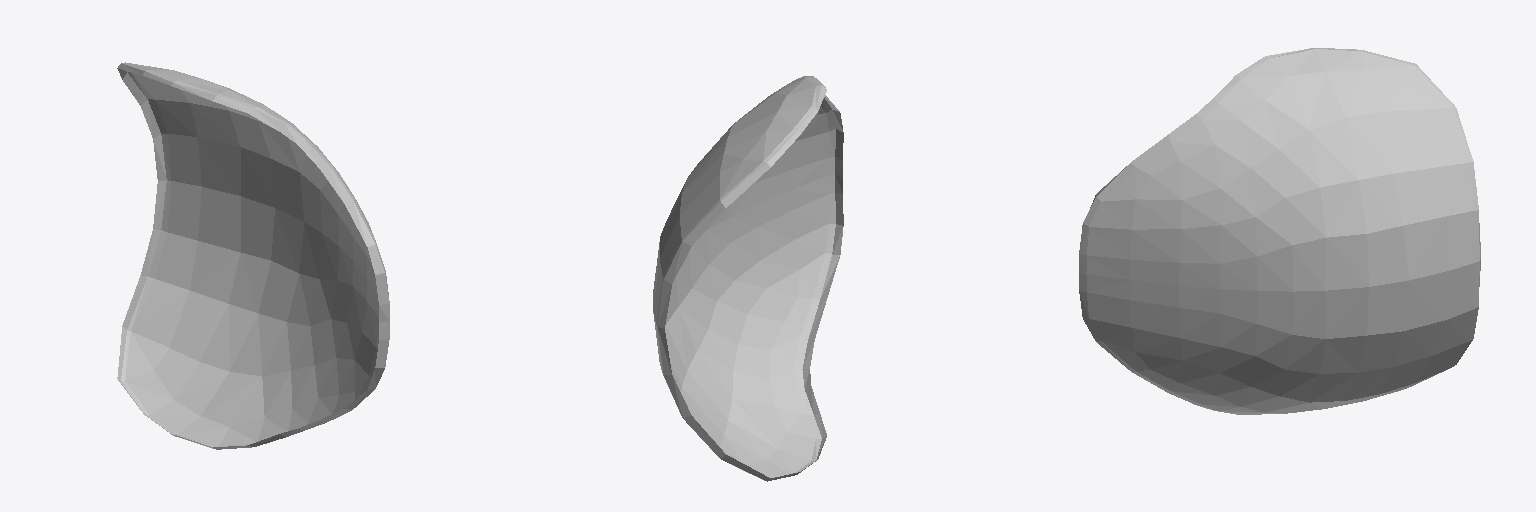
The model's file is RKneePitch_shell.obj.
3 renders of one model, left to right at view 1: azimuth 30°, elevation 25°; view 2: azimuth 150°, elevation 25°; view 3: azimuth 270°, elevation 25°, orthographic.
Size of the model in its own units: 0.048 by 0.1114 by 0.1147.